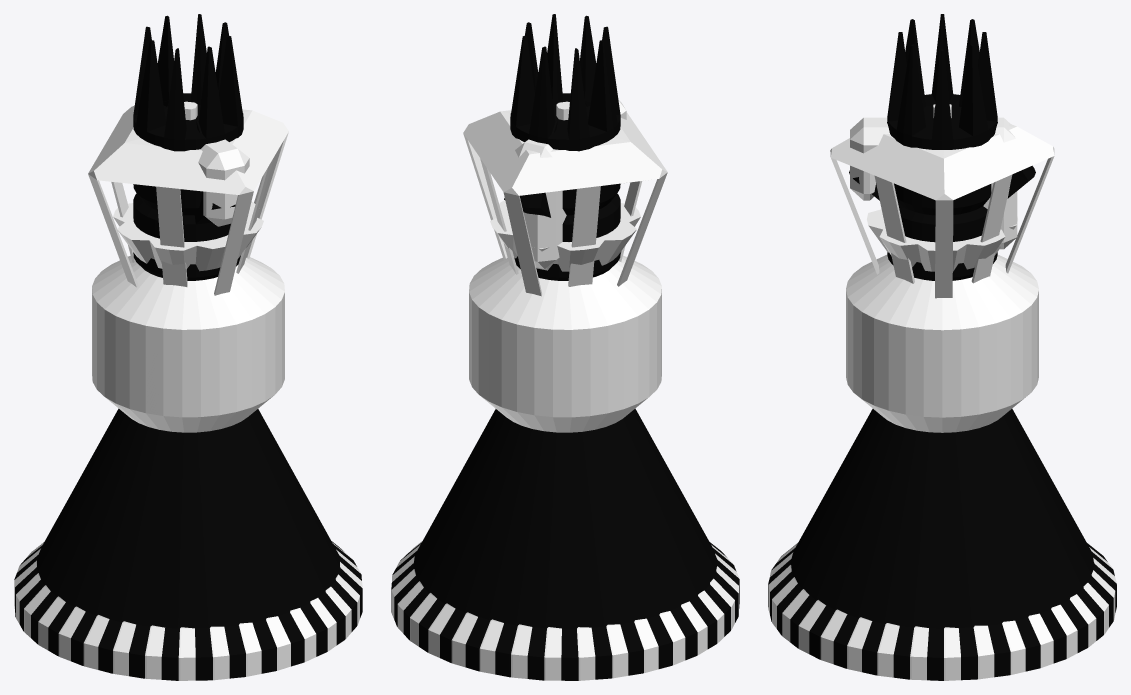
Rendered from Chess.fbx.
The picture shows the model from 3 angles, left to right: view 1: azimuth 30°, elevation 25°; view 2: azimuth 150°, elevation 25°; view 3: azimuth 270°, elevation 25°; orthographic projection.
Parts seen in each view (by area): view 1: Cylinder.003, Cylinder.006, Cylinder.005, Cylinder, Cylinder.004; view 2: Cylinder.003, Cylinder.006, Cylinder.005, Cylinder, Cylinder.004; view 3: Cylinder.003, Cylinder.006, Cylinder.005, Cylinder, Cylinder.004.
Part boxes in pixels (x1,y1,x2,y2): Cylinder.003: (36,14,340,628); Cylinder.006: (92,201,284,432); Cylinder.005: (14,101,362,680); Cylinder: (14,100,362,680); Cylinder.004: (136,139,249,226); Cylinder.003: (413,14,717,628); Cylinder.006: (469,200,661,432); Cylinder.005: (391,101,739,680); Cylinder: (391,100,739,680); Cylinder.004: (513,99,626,269); Cylinder.003: (790,14,1094,628); Cylinder.006: (846,201,1038,432); Cylinder.005: (768,104,1116,680); Cylinder: (768,122,1116,680); Cylinder.004: (850,117,1017,249).
Size of the model in its own units: 119 by 216 by 119.
